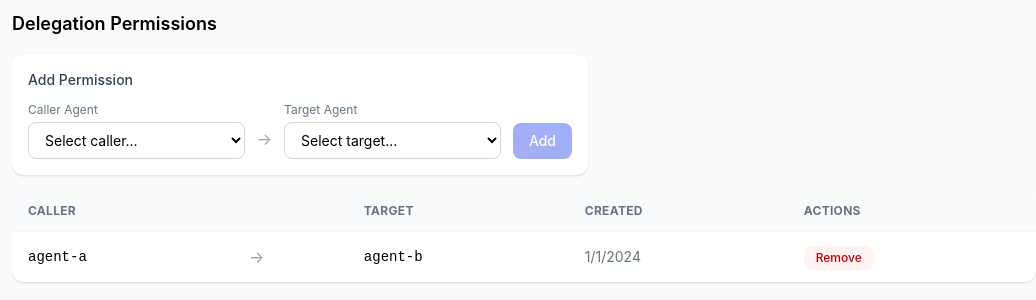
Scenario: DelegationPermissions › does not show cycle warning for valid additions
Expected: the text "agent-a" is shown, [12, 232, 233, 282]
// Try to add agent-b → agent-c (no cycle)
Select "Agent B (agent-b)" in the dropdown named "Caller agent" at [136, 140], box [28, 122, 245, 159]
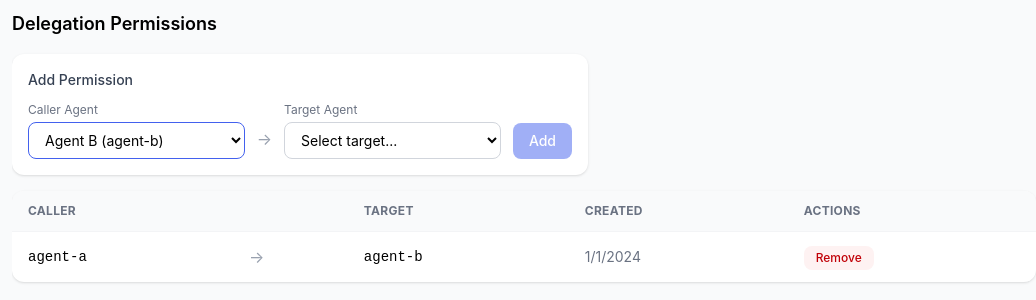
Select "Agent C (agent-c)" in the dropdown named "Target agent" at [392, 140], box [284, 122, 501, 159]
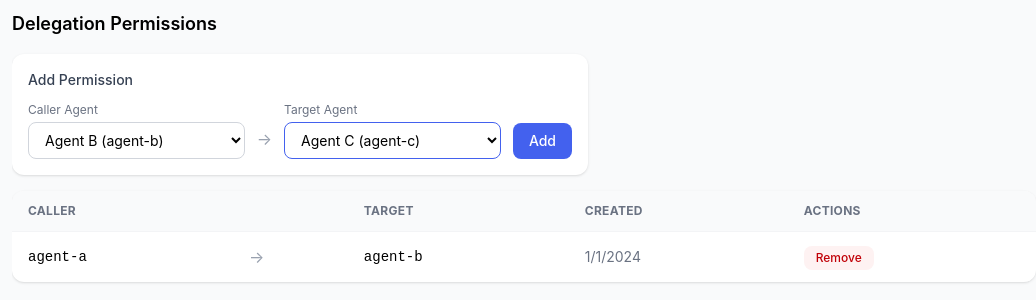
Expected: the button "Add" is enabled, [513, 123, 572, 159]
